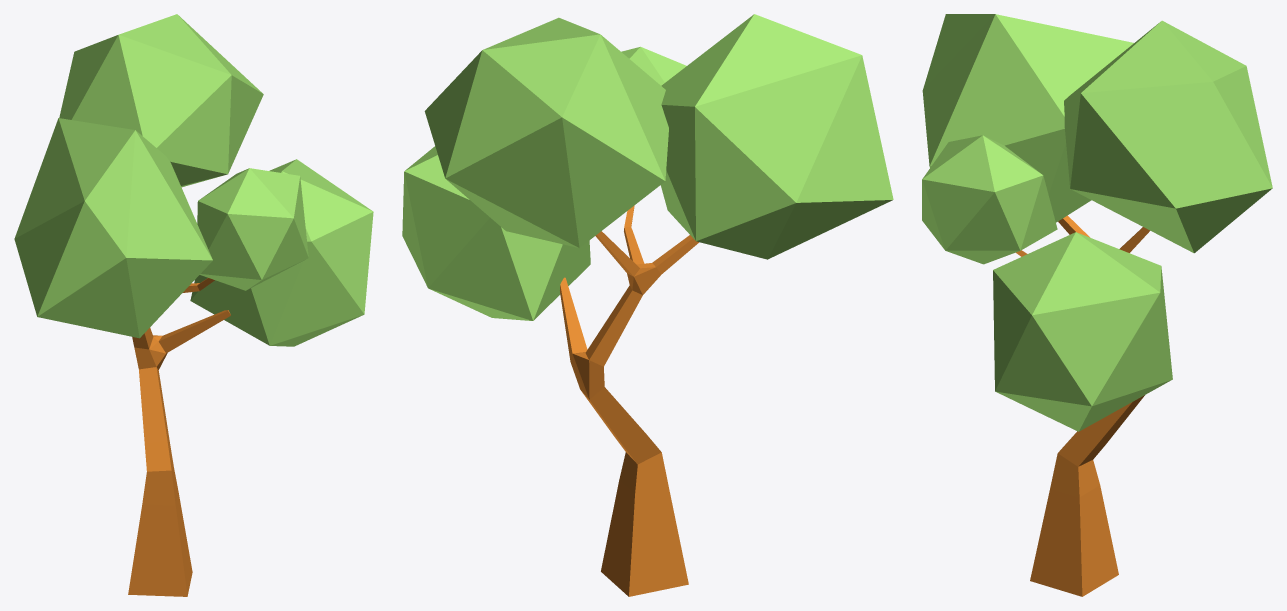
File: Arbol.fbx
The picture shows the model from 3 angles, left to right: view 1: azimuth 30°, elevation 25°; view 2: azimuth 150°, elevation 25°; view 3: azimuth 270°, elevation 25°; orthographic projection. The views are drawn at different scales.
Parts seen in each view (by area): view 1: Icosphere.001, Icosphere.002, Icosphere.003, Cube, Icosphere; view 2: Icosphere.001, Icosphere.002, Cube, Icosphere.003, Icosphere; view 3: Icosphere.002, Icosphere.003, Icosphere.001, Icosphere, Cube.
Part boxes in pixels (box(x1,y1,x2,y2)): Icosphere.001: box(14, 118, 212, 338); Icosphere.002: box(59, 14, 263, 187); Icosphere.003: box(190, 159, 373, 346); Cube: box(128, 278, 230, 596); Icosphere: box(197, 168, 308, 290); Icosphere.001: box(660, 14, 893, 259); Icosphere.002: box(424, 17, 668, 247); Cube: box(560, 205, 698, 596); Icosphere.003: box(402, 146, 590, 320); Icosphere: box(621, 46, 686, 85); Icosphere.002: box(1064, 20, 1272, 253); Icosphere.003: box(993, 232, 1172, 431); Icosphere.001: box(922, 14, 1133, 222); Icosphere: box(922, 135, 1057, 264); Cube: box(1016, 215, 1149, 596).
Size of the model in its own units: 890 by 1152 by 657.
